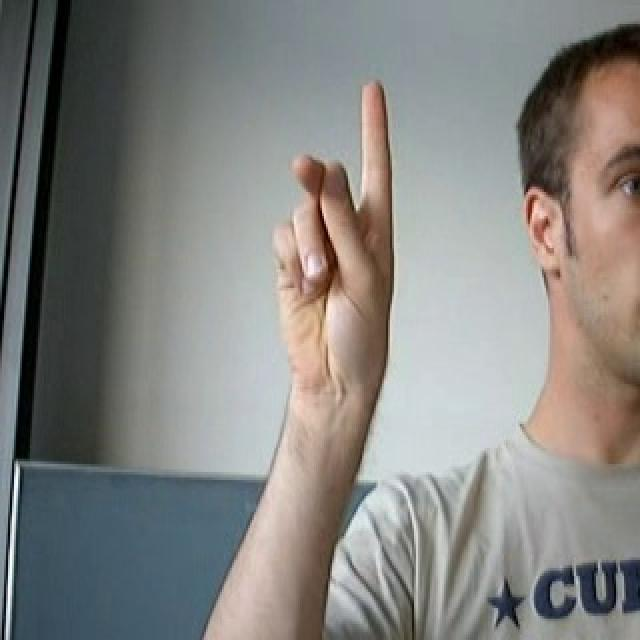K: (244, 55, 426, 439)
